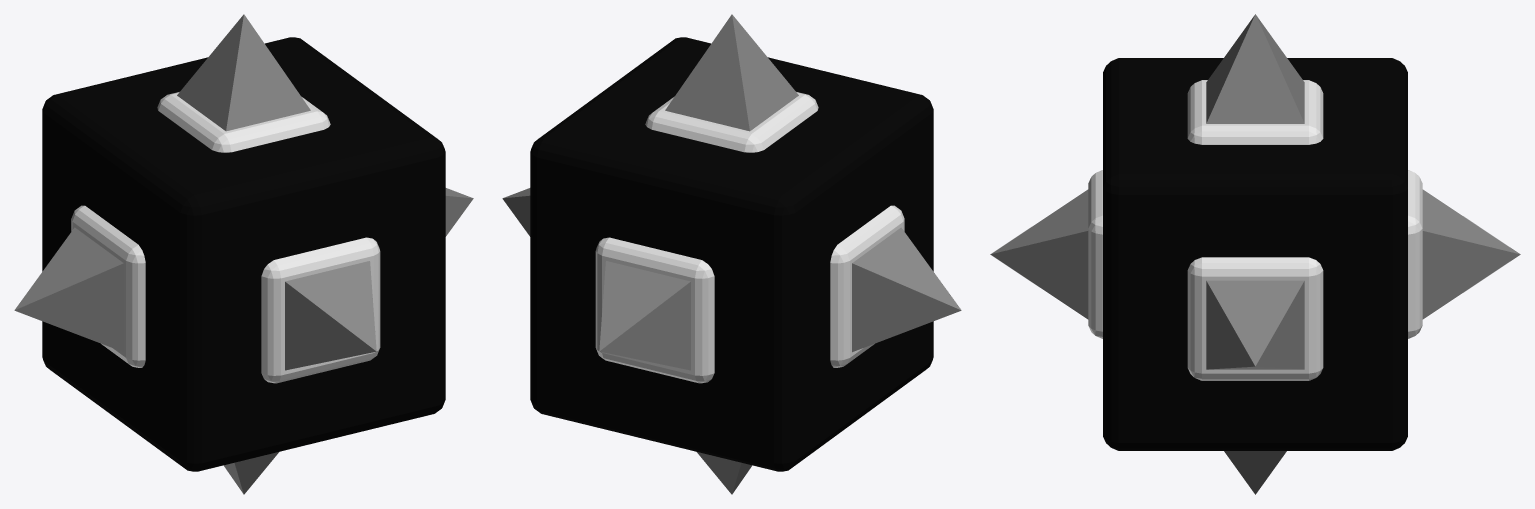
The model's file is SpikeCubeTrap.fbx.
3 views of the same model, side by side, from view 1: azimuth 30°, elevation 25°; view 2: azimuth 150°, elevation 25°; view 3: azimuth 270°, elevation 25° (orthographic).
Parts seen in each view (by area): view 1: Cube.001; view 2: Cube.001; view 3: Cube.001.
Boxes of the visible parts, x1,y1,x2,y2 form: Cube.001: [14, 14, 473, 494]; Cube.001: [502, 14, 961, 494]; Cube.001: [990, 14, 1520, 494].
Size of the model in its own units: 348 by 348 by 348.
8 materials, 7 textured.
